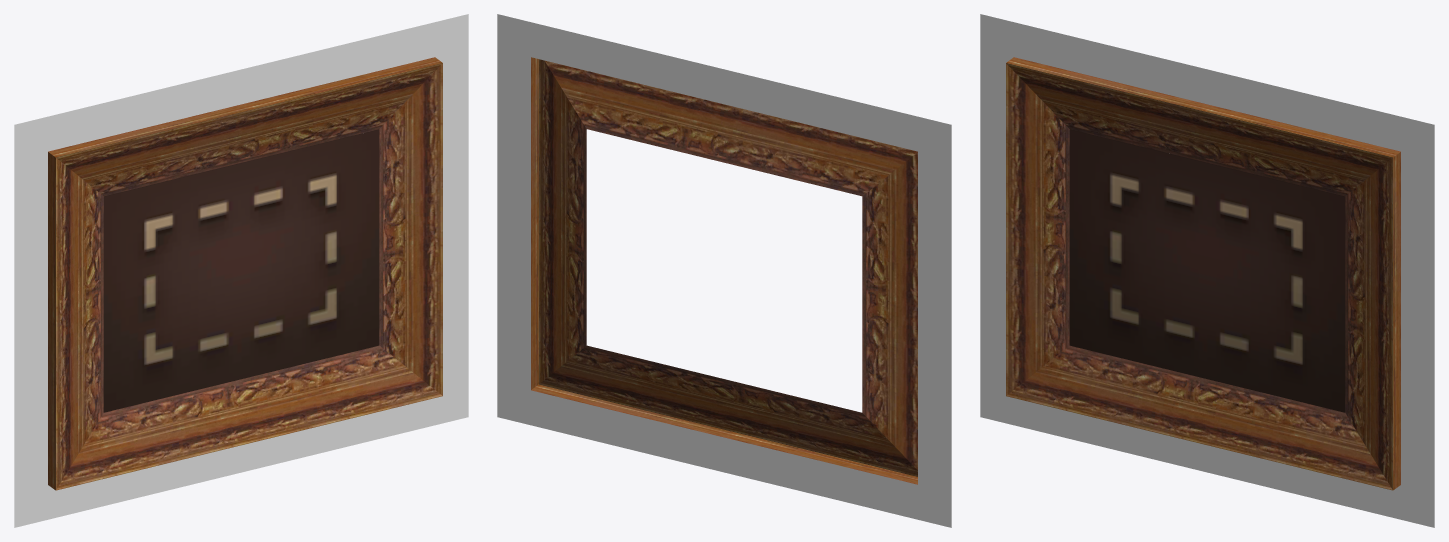
File: Frame_06_Small.dae
3 renders of one model, left to right at view 1: azimuth 30°, elevation 25°; view 2: azimuth 150°, elevation 25°; view 3: azimuth 330°, elevation 25°, orthographic.
Visible parts, largest first — view 1: Frame_06_Small (×3); view 2: Frame_06_Small (×2); view 3: Frame_06_Small (×3).
Boxes of the visible parts, x1,y1,x2,y2 form: Frame_06_Small (×3): (14, 14, 468, 527); Frame_06_Small (×2): (497, 14, 951, 527); Frame_06_Small (×3): (980, 14, 1434, 527).
Size of the model in its own units: 272 by 231 by 8.27.
Materials: 3 (3 with a texture image).
